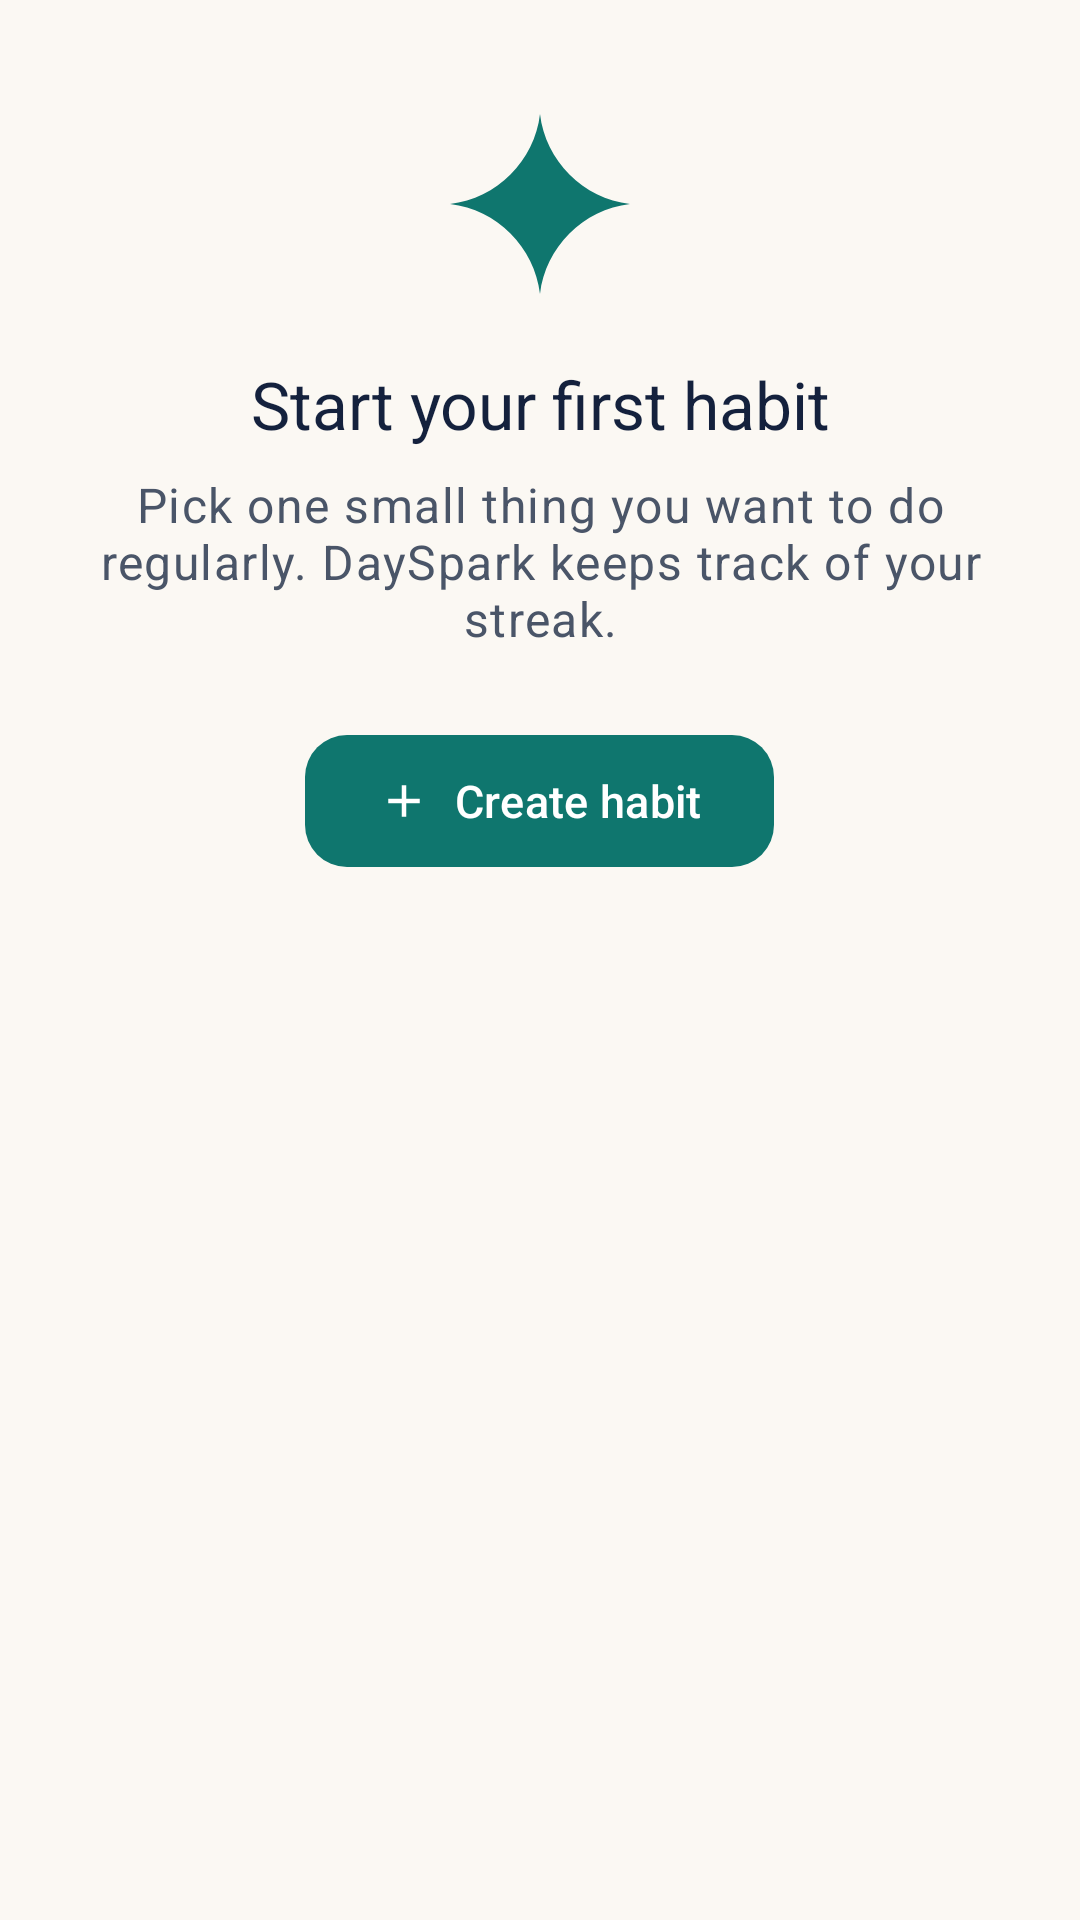

Icons on this 1080×1920 Android screen, each with the point to tap as [x,y]:
spark: [540,204]
